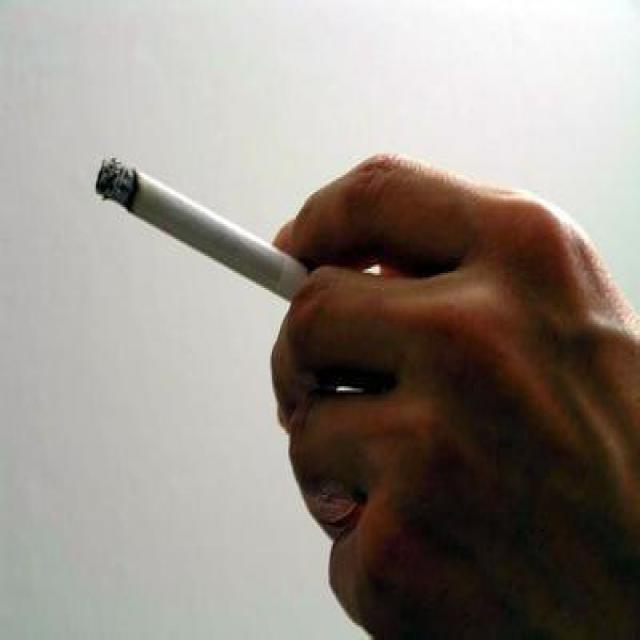smoking: (92, 153, 339, 304)
